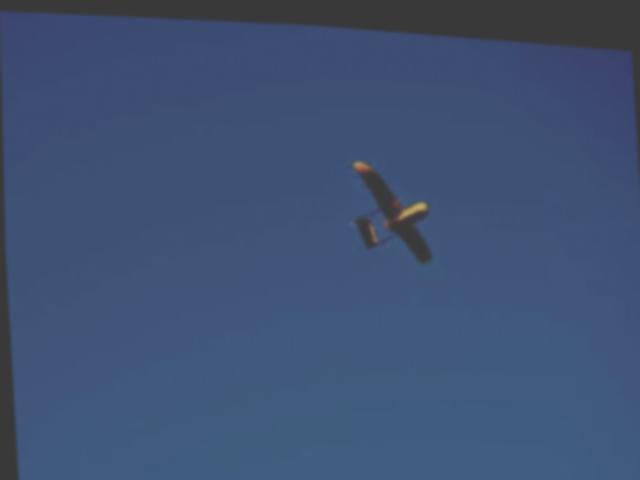iha: (340, 148, 441, 267)
